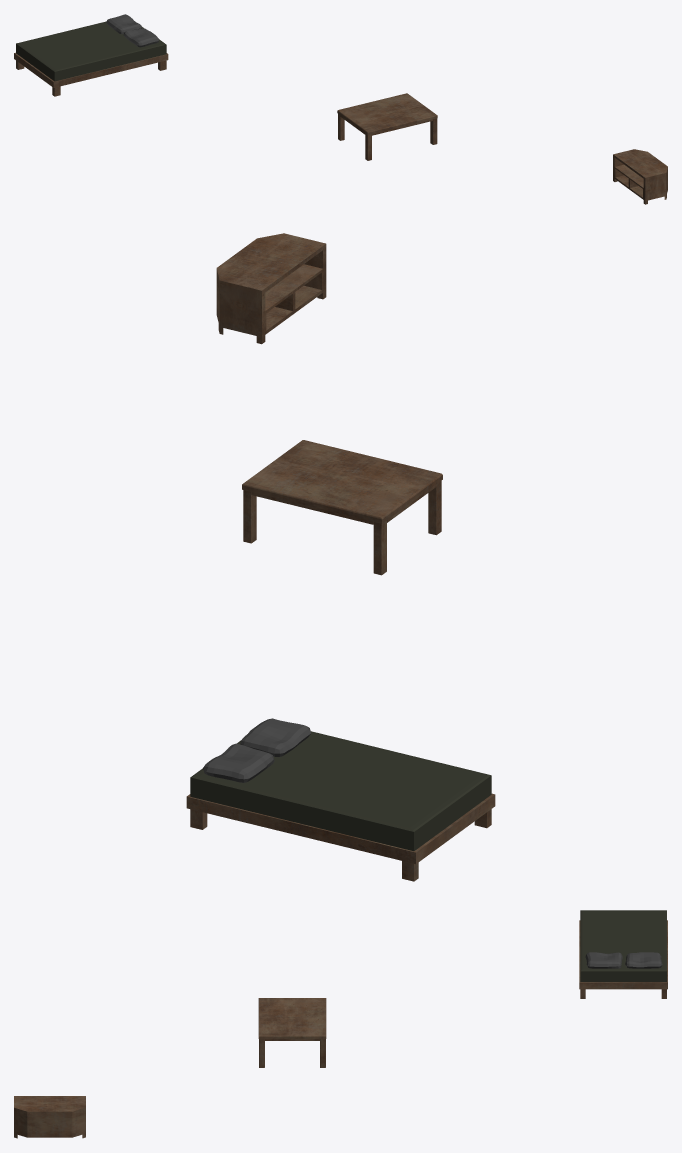
The model's file is props.glb.
The picture shows the model from 3 angles, top to bottom: view 1: azimuth 30°, elevation 25°; view 2: azimuth 150°, elevation 25°; view 3: azimuth 270°, elevation 25°; orthographic projection. The views are drawn at different scales.
Parts seen in each view (by area): view 1: Bed.001, Table.001, TelevisionStand.001; view 2: Bed.001, Table.001, TelevisionStand.001; view 3: Bed.001, Table.001, TelevisionStand.001.
Part boxes in pixels (x1,y1,x2,y2): Bed.001: (14, 14, 168, 96); Table.001: (337, 93, 437, 160); TelevisionStand.001: (613, 149, 667, 204); Bed.001: (186, 718, 495, 881); Table.001: (242, 440, 442, 575); TelevisionStand.001: (216, 233, 326, 344); Bed.001: (579, 910, 667, 998); Table.001: (258, 998, 326, 1067); TelevisionStand.001: (14, 1096, 85, 1138).
Size of what is drawn, in the model's own units: 10.57 by 0.9643 by 14.63.
Materials: 3 (1 with a texture image).
